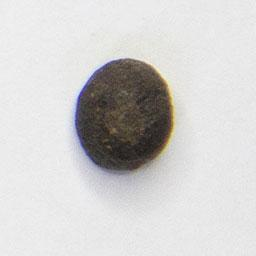defect: (71, 57, 177, 175)
